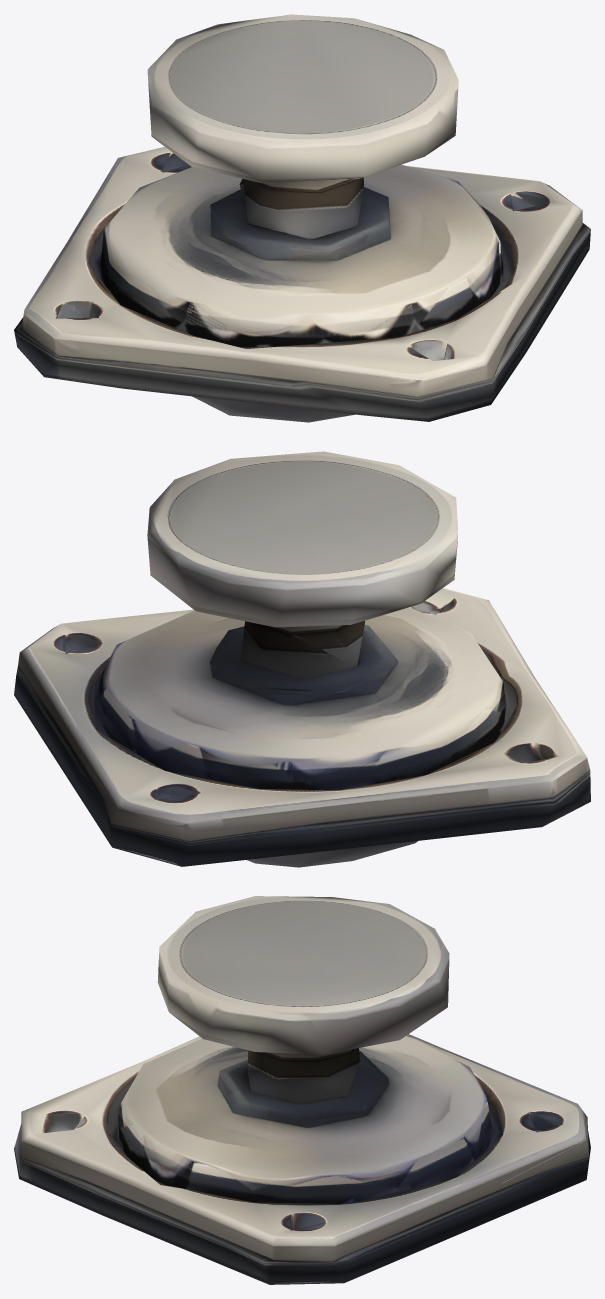
Rendered from pushbutton.obj.
The picture shows the model from 3 angles, top to bottom: view 1: azimuth 30°, elevation 25°; view 2: azimuth 150°, elevation 25°; view 3: azimuth 270°, elevation 25°; orthographic projection. The views are drawn at different scales.
Parts seen in each view (by area): view 1: tripo_node_9a6fef02-c760-4082-8d07-25f8bfb22337; view 2: tripo_node_9a6fef02-c760-4082-8d07-25f8bfb22337; view 3: tripo_node_9a6fef02-c760-4082-8d07-25f8bfb22337.
Part boxes in pixels (x1,y1,x2,y2): tripo_node_9a6fef02-c760-4082-8d07-25f8bfb22337: (14, 14, 590, 422); tripo_node_9a6fef02-c760-4082-8d07-25f8bfb22337: (14, 451, 590, 867); tripo_node_9a6fef02-c760-4082-8d07-25f8bfb22337: (14, 896, 590, 1284).
Bounding box in the file's own units: 0.9998 × 0.5655 × 0.9935.
1 material, 1 textured.
